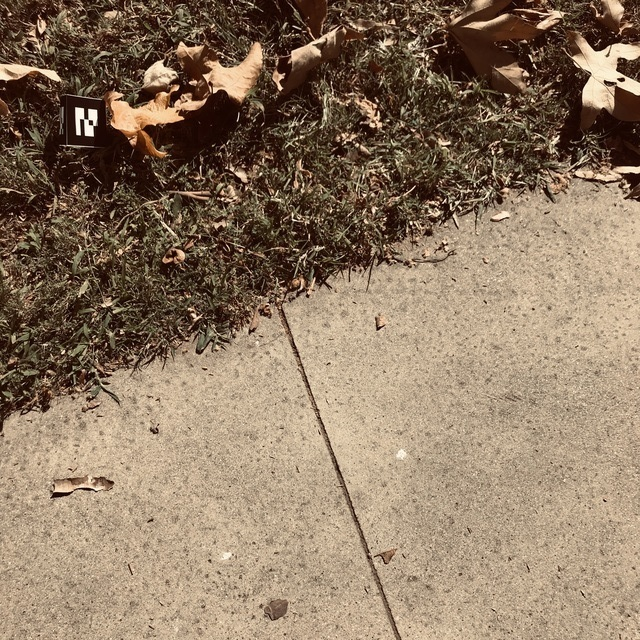ARTag: (57, 93, 108, 152)
